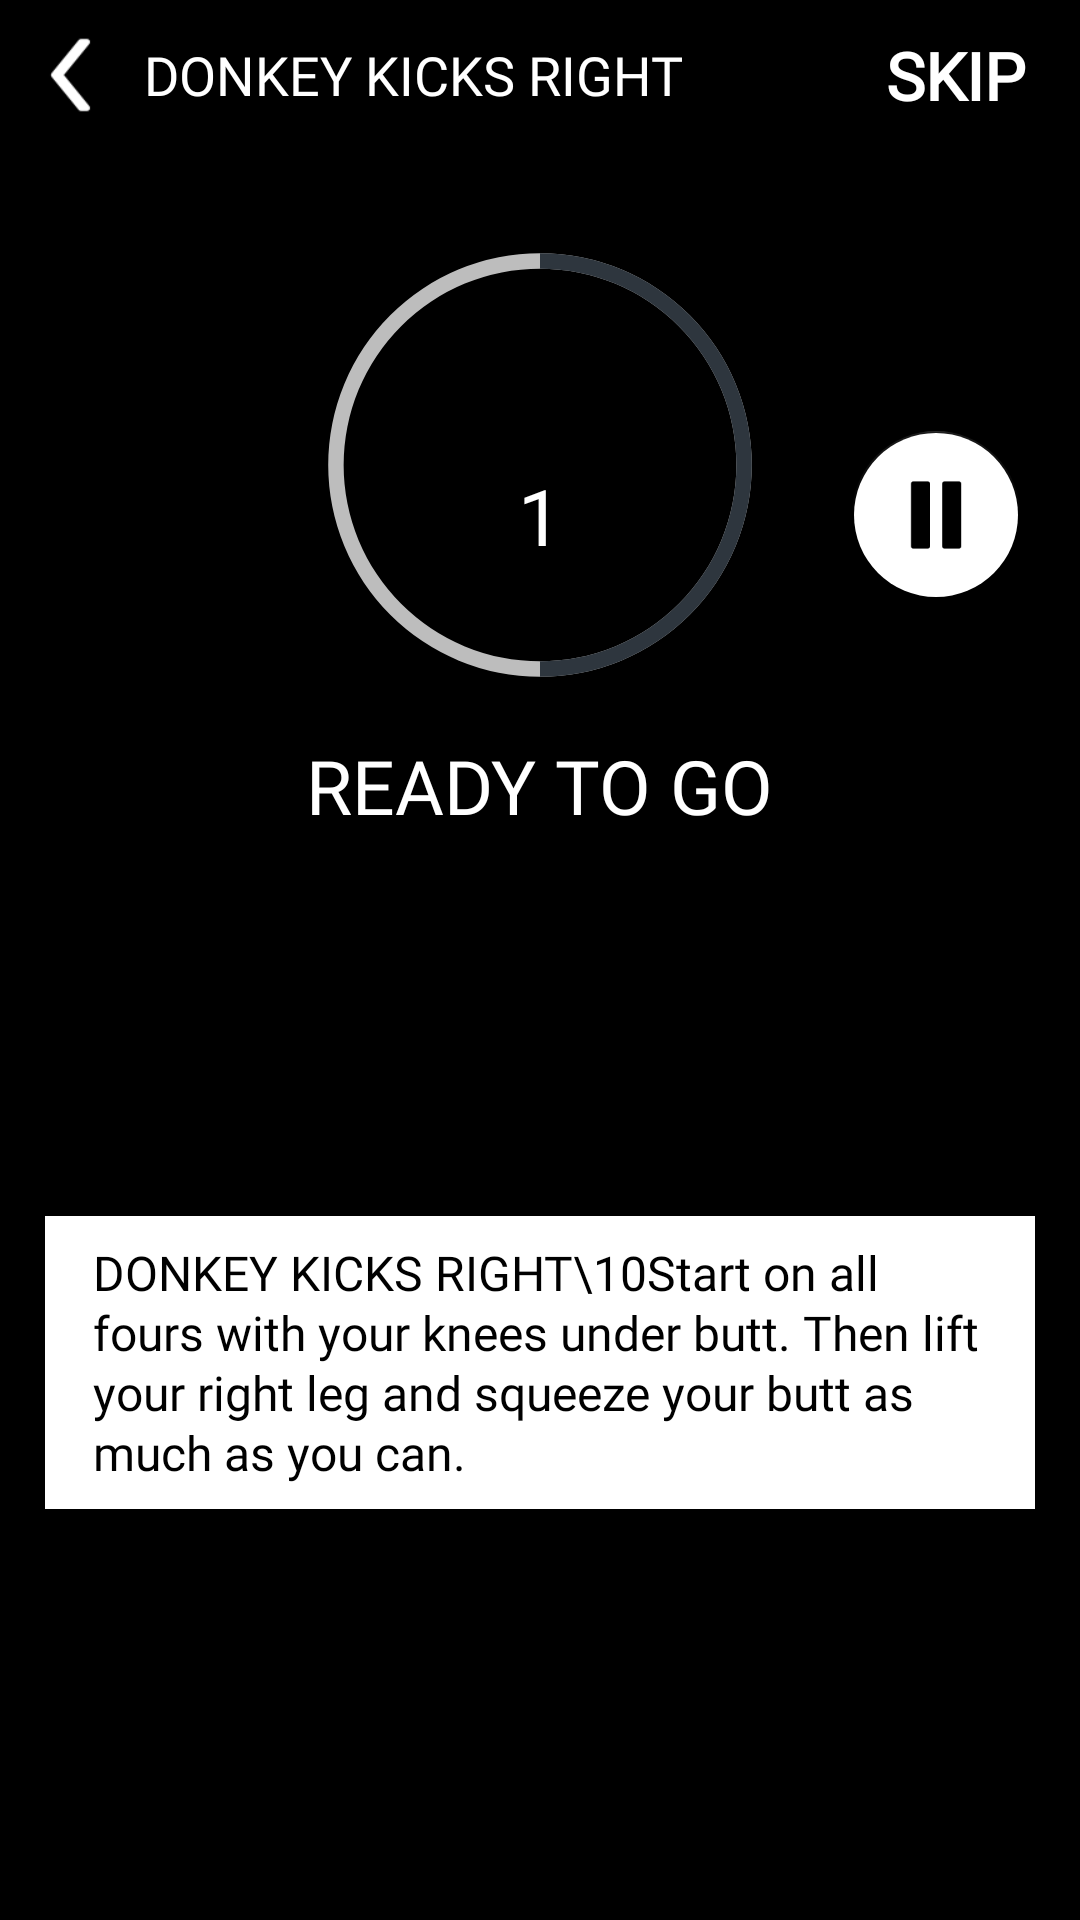

Icons on this 1080px x 1920px Android screen, each with its box as {"left": x1, "top": y1, "right": x2, "bottom": y2}:
back: {"left": 50, "top": 38, "right": 90, "bottom": 112}
pause: {"left": 854, "top": 431, "right": 1018, "bottom": 597}
